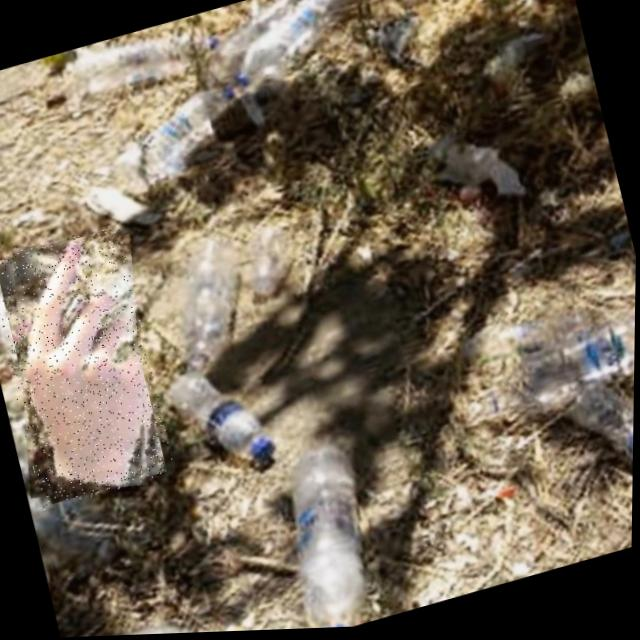Person in Rubble: (0, 221, 180, 511)
